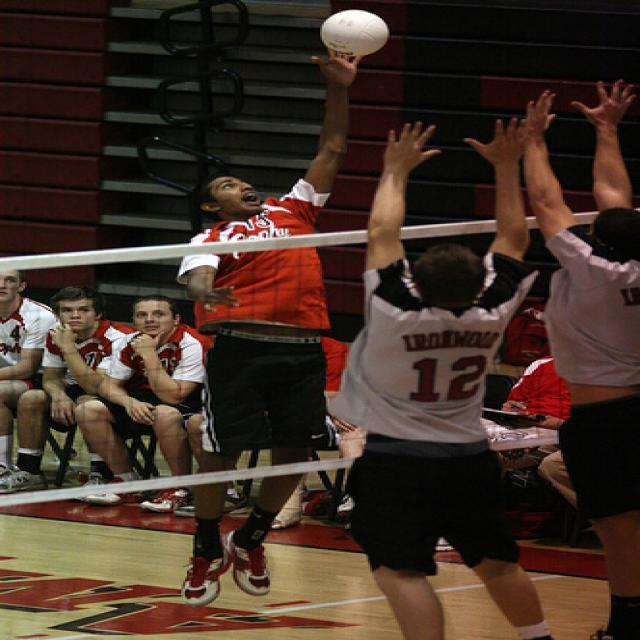volleyball: (320, 8, 388, 54)
